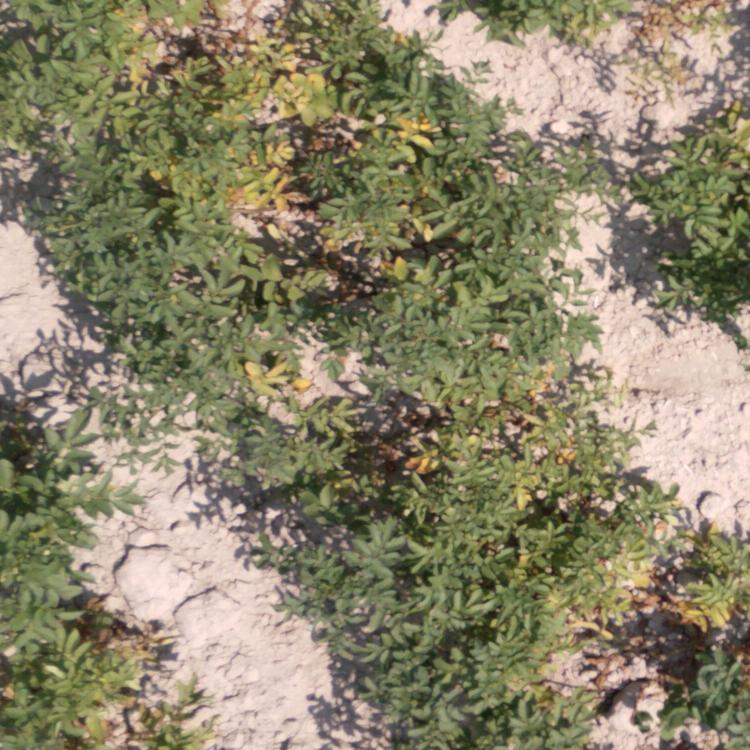healthy: (333, 516, 524, 750), (1, 438, 119, 738), (87, 185, 257, 386), (439, 120, 554, 357), (10, 1, 102, 136)
stressed: (110, 1, 294, 181), (413, 364, 604, 517), (299, 1, 421, 183), (632, 122, 750, 293), (263, 191, 416, 319), (227, 404, 406, 510), (681, 530, 746, 750), (445, 1, 732, 42), (531, 523, 637, 621), (533, 632, 586, 732), (27, 138, 65, 257)
